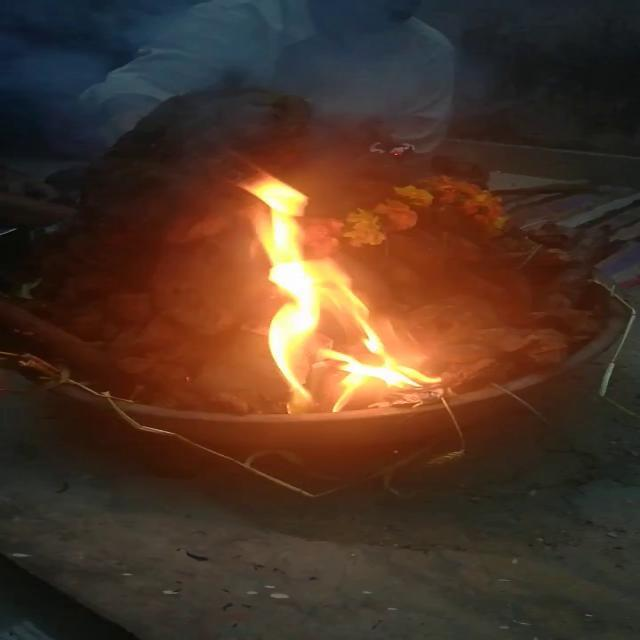Fire: (222, 160, 438, 420)
Smoke: (13, 10, 442, 128)
